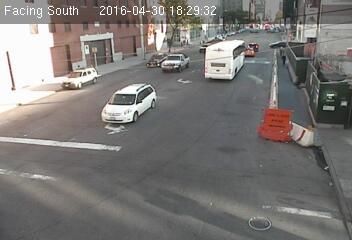neg: (128, 40, 140, 56), (250, 39, 261, 54), (165, 36, 175, 49)
pos: (278, 48, 291, 66)
